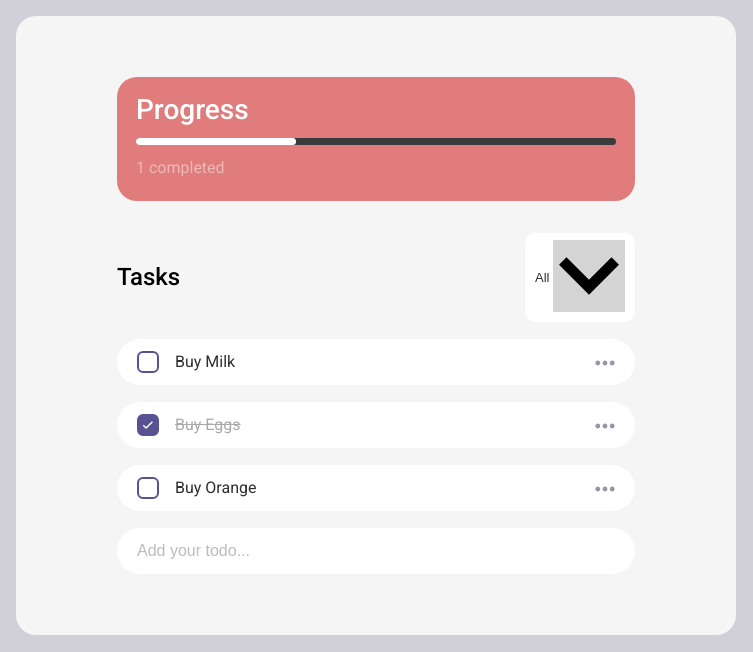
Test case: TodoApp › can see what is undone
Click the button with id "filterTodoButton". click: (580, 278)
box: top-left (525, 233), bottom-right (635, 322)
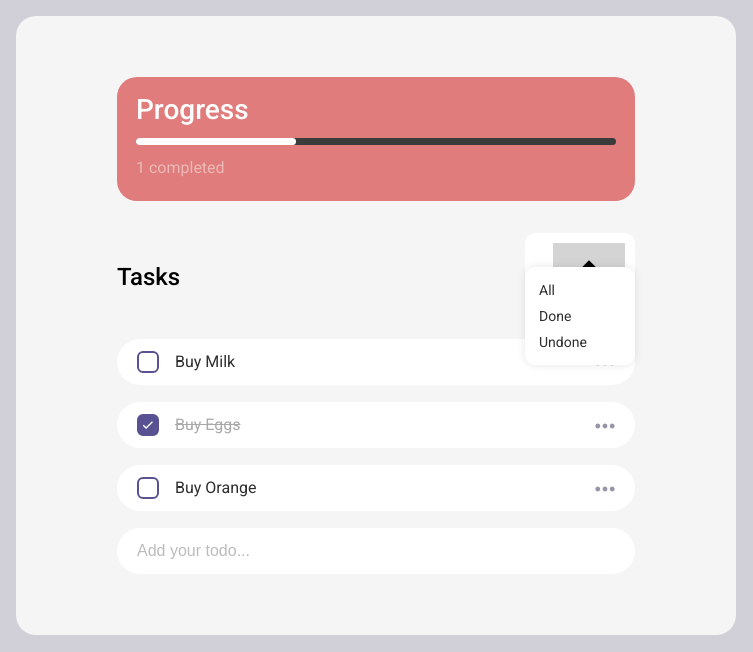
Click the list item with test id "list-undone". click: (563, 342)
box: top-left (539, 334), bottom-right (587, 350)
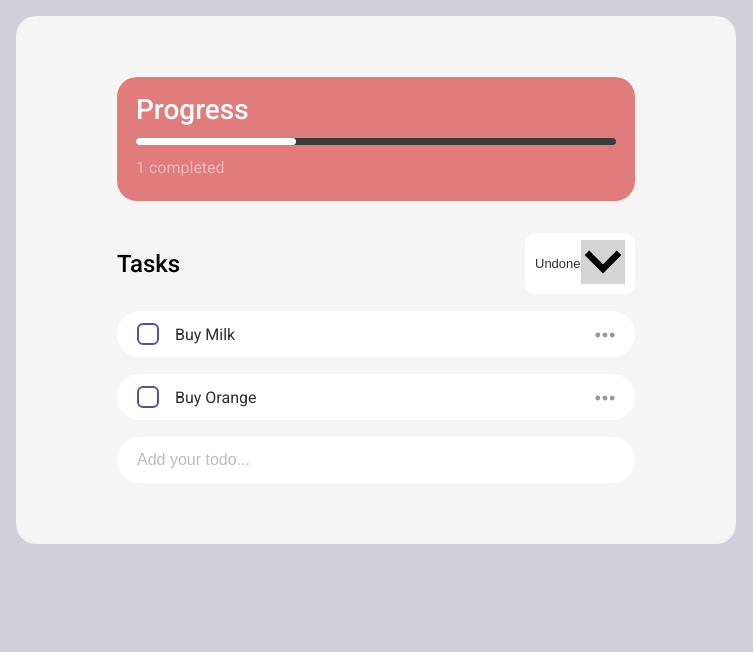
Result: the number of list items is 2 at top-left (117, 311), bottom-right (635, 357); top-left (117, 374), bottom-right (635, 420)
